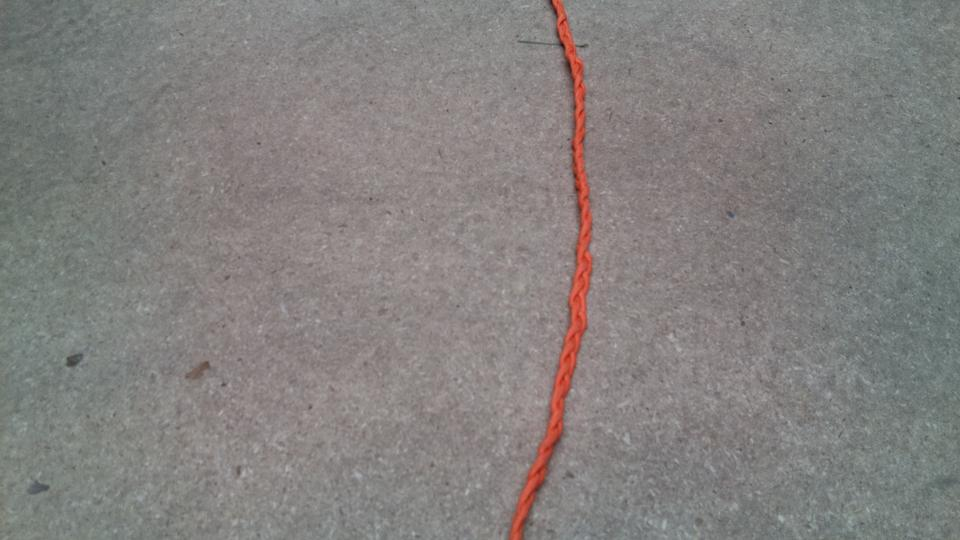rope: (496, 1, 597, 540)
